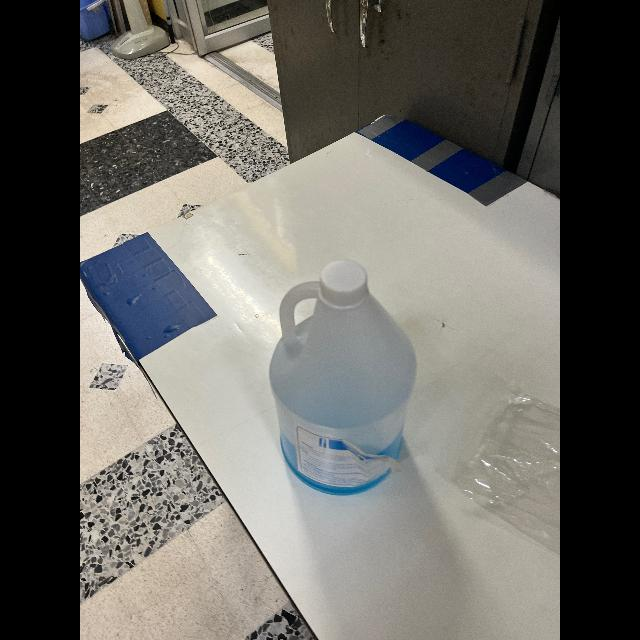chemical_plastic_gallon: (234, 250, 442, 500)
